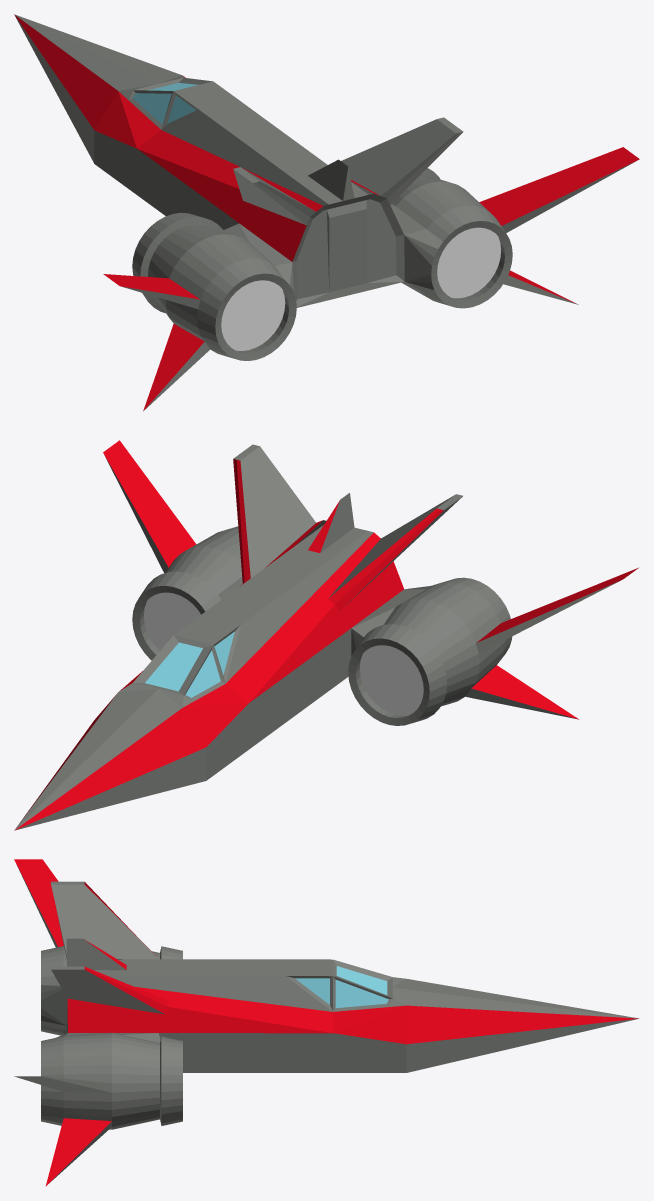
File: Raven-IX.fbx
3 renders of one model, top to bottom at view 1: azimuth 30°, elevation 25°; view 2: azimuth 150°, elevation 25°; view 3: azimuth 270°, elevation 25°, orthographic. The views are drawn at different scales.
Visible parts, largest first — view 1: Raven IX Cockpit.003; view 2: Raven IX Cockpit.003; view 3: Raven IX Cockpit.003.
Part boxes in pixels (<box>): Raven IX Cockpit.003: <box>14,14,639,411</box>; Raven IX Cockpit.003: <box>14,440,638,830</box>; Raven IX Cockpit.003: <box>14,859,639,1186</box>.
Bounding box in the file's own units: 1620 × 591 × 1973.
4 materials, 1 textured.
